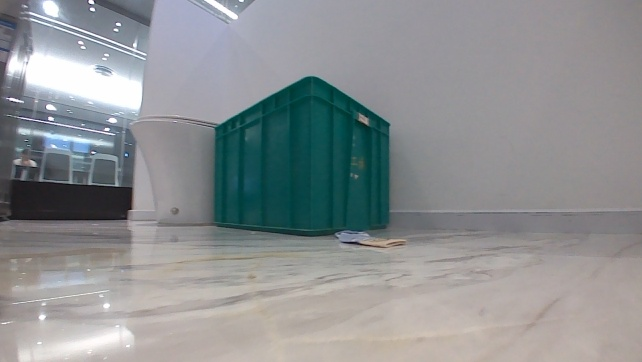socks: (333, 226, 407, 250)
toilet: (125, 110, 221, 227)
